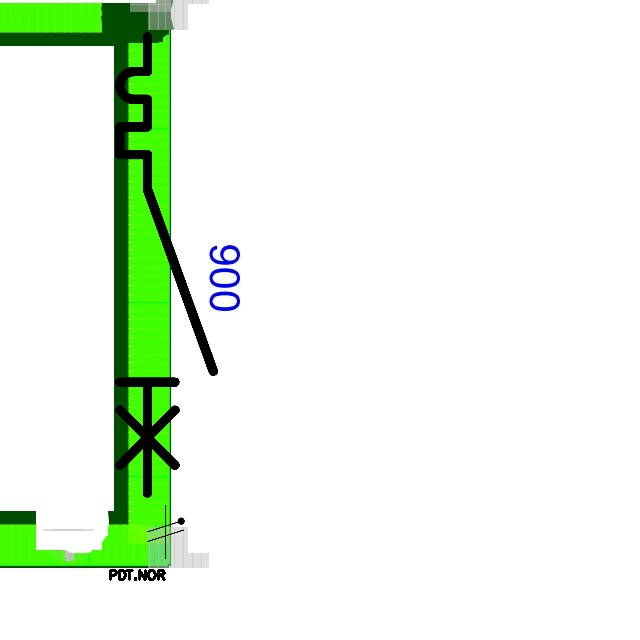interruptor_termomagnetico: (108, 25, 225, 505)
